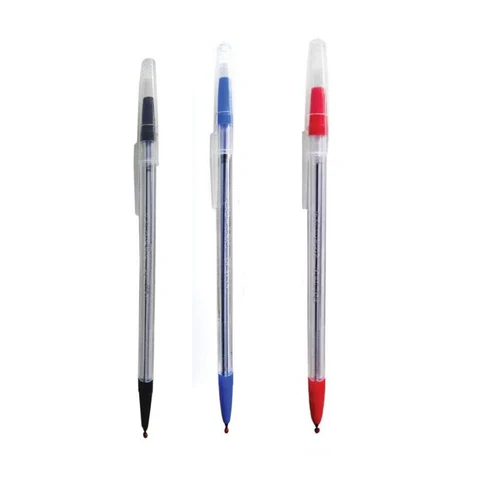toxic_waste: (295, 39, 342, 433), (212, 47, 243, 429), (136, 60, 160, 438)
